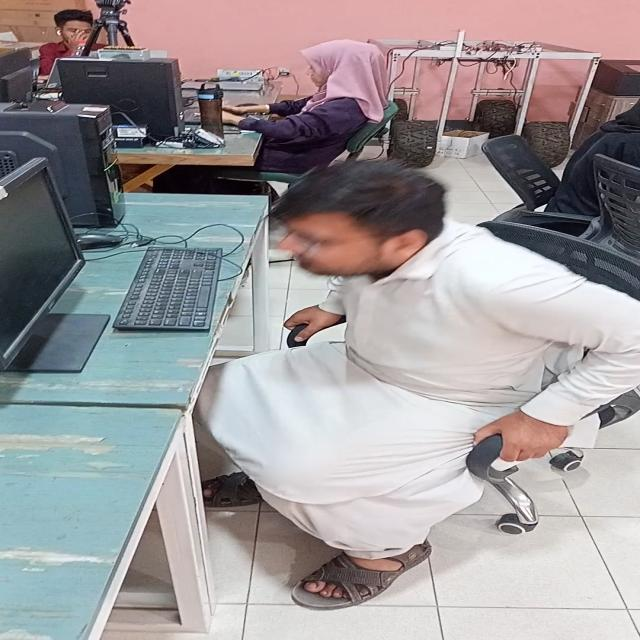dress: (209, 222, 640, 558)
